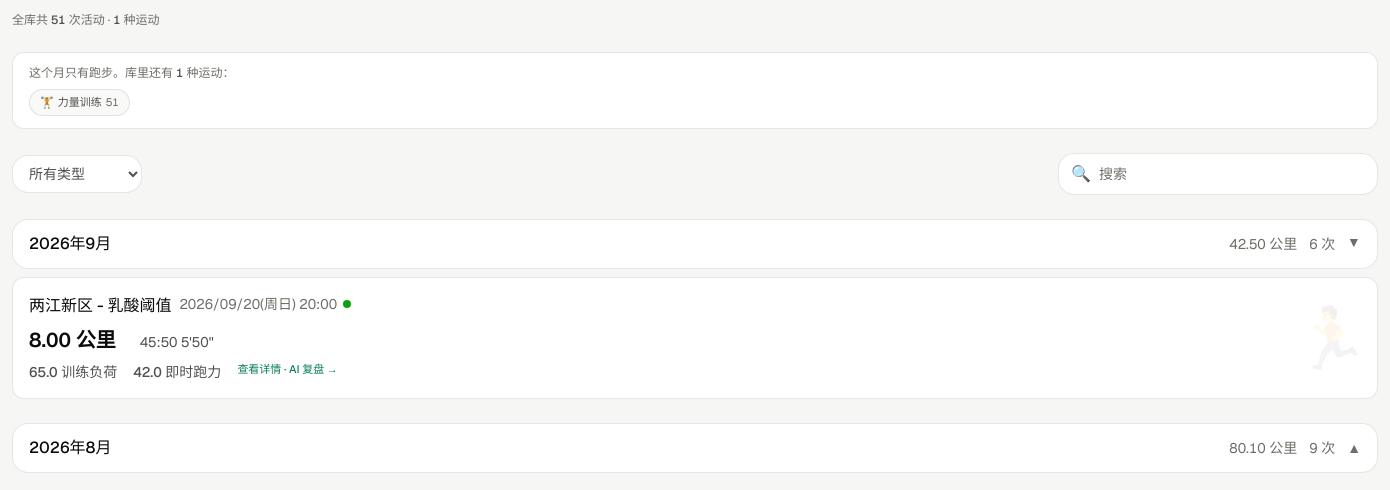
Test case: ListClient 活动列表 (交互/筛选/无限滚动) › 筛选后自动展开的首月会拉取当月活动
The image size is (1390, 490).
Select "力量训练 (51)" in the dropdown named "活动类型筛选": (77,174) x1=12 y1=154 x2=142 y2=192
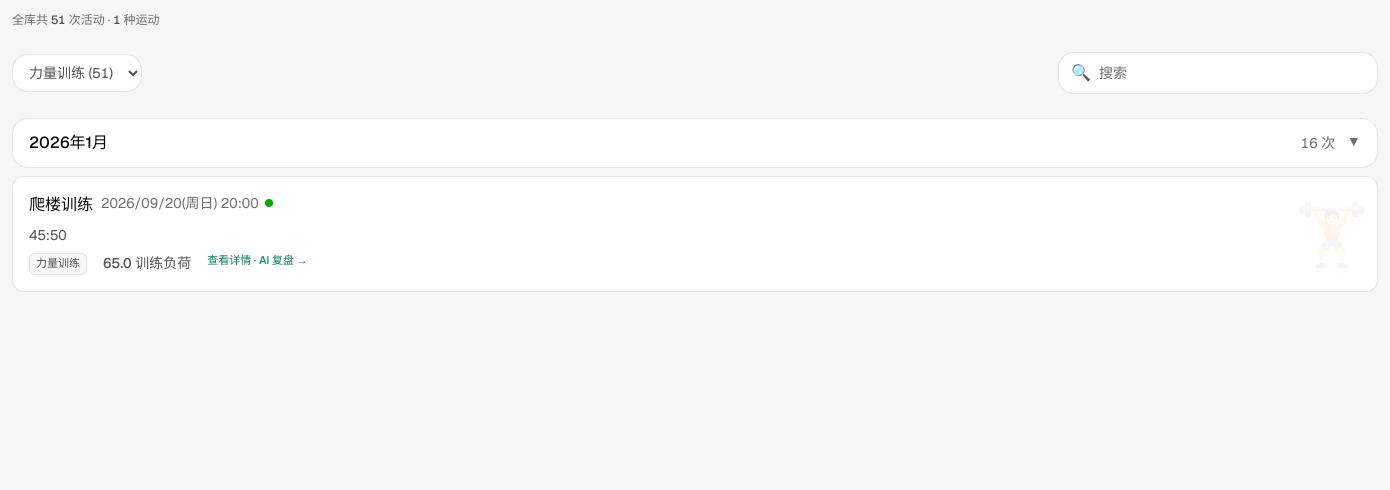
Result: the button "爬楼训练" is shown at x1=12 y1=176 x2=1378 y2=292
